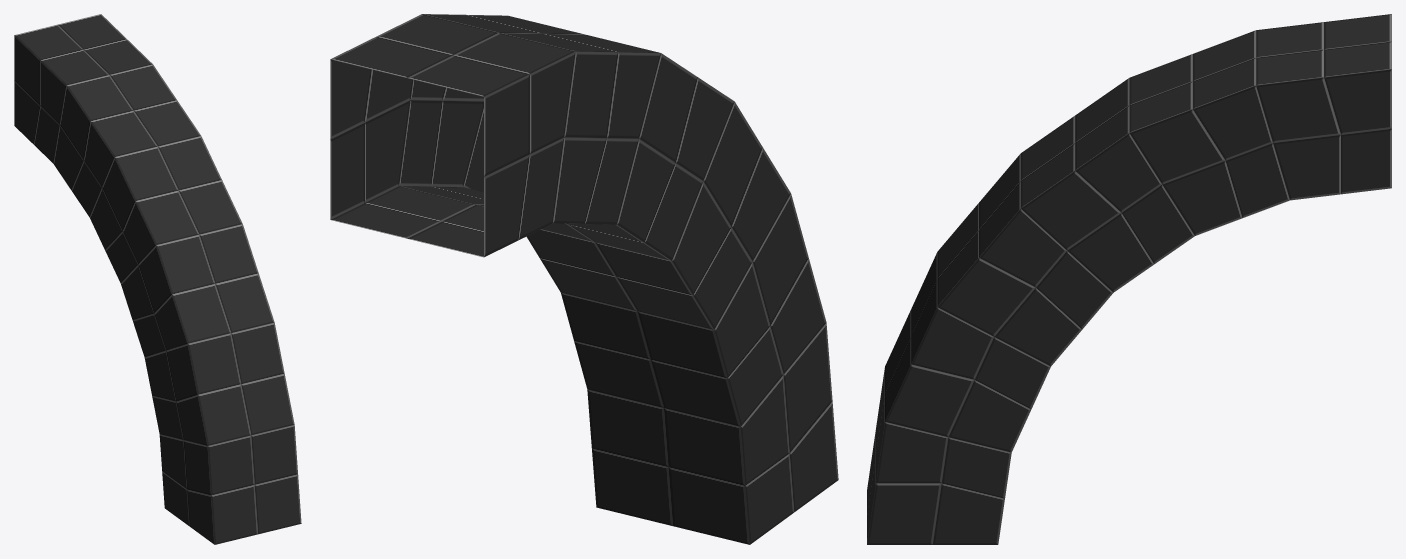
File: WhichOneCurve2.obj
3 views of the same model, side by side, from view 1: azimuth 30°, elevation 25°; view 2: azimuth 150°, elevation 25°; view 3: azimuth 270°, elevation 25° (orthographic). The views are drawn at different scales.
Parts seen in each view (by area): view 1: WhichOneCurve2; view 2: WhichOneCurve2; view 3: WhichOneCurve2.
Part boxes in pixels (x1,y1,x2,y2): WhichOneCurve2: (14,14,301,544); WhichOneCurve2: (330,14,838,544); WhichOneCurve2: (867,14,1391,544).
Bounding box in the file's own units: 4 × 16 × 16.
